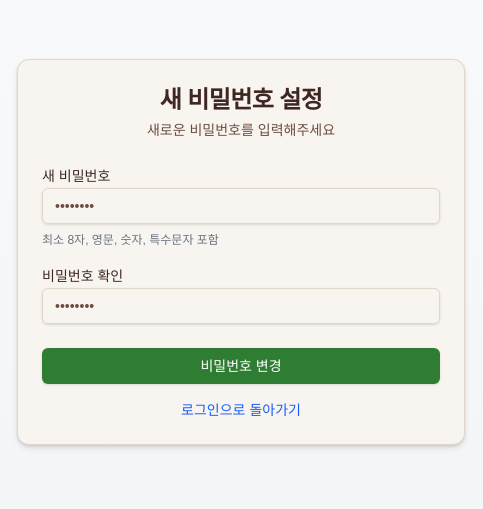
UpdatePasswordPage › 폼 제출 › 실패 시 에러 메시지를 표시한다
Type "TestTest123!" into the password field labelled "새 비밀번호" at (241, 206), box [42,188,440,224]
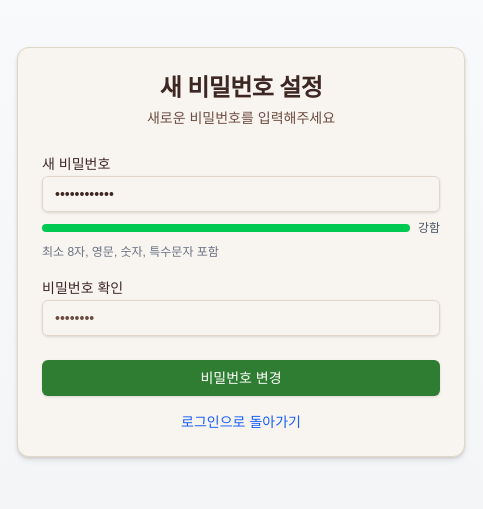
Type "TestTest123!" into the password field labelled "비밀번호 확인" at (241, 318), box [42,300,440,336]
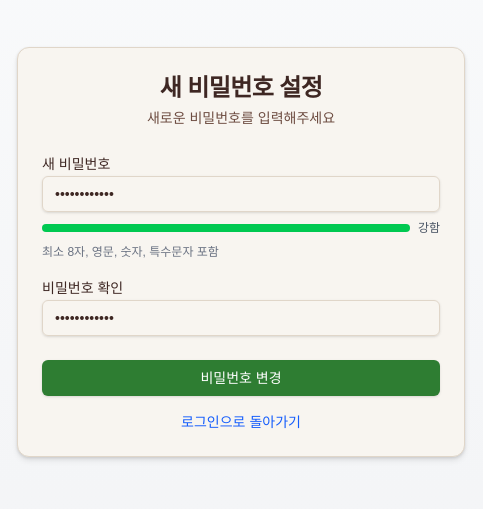
Click the button "비밀번호 변경" at (241, 378), box [42,360,440,396]
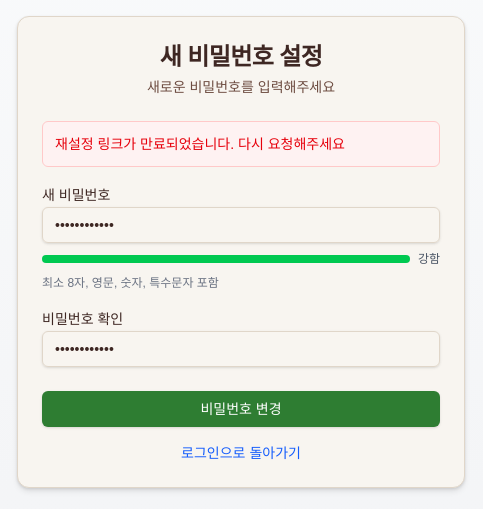
Check: the text "재설정 링크가 만료되었습니다. 다시 요청해주세요" is shown, box [42,121,440,167]
